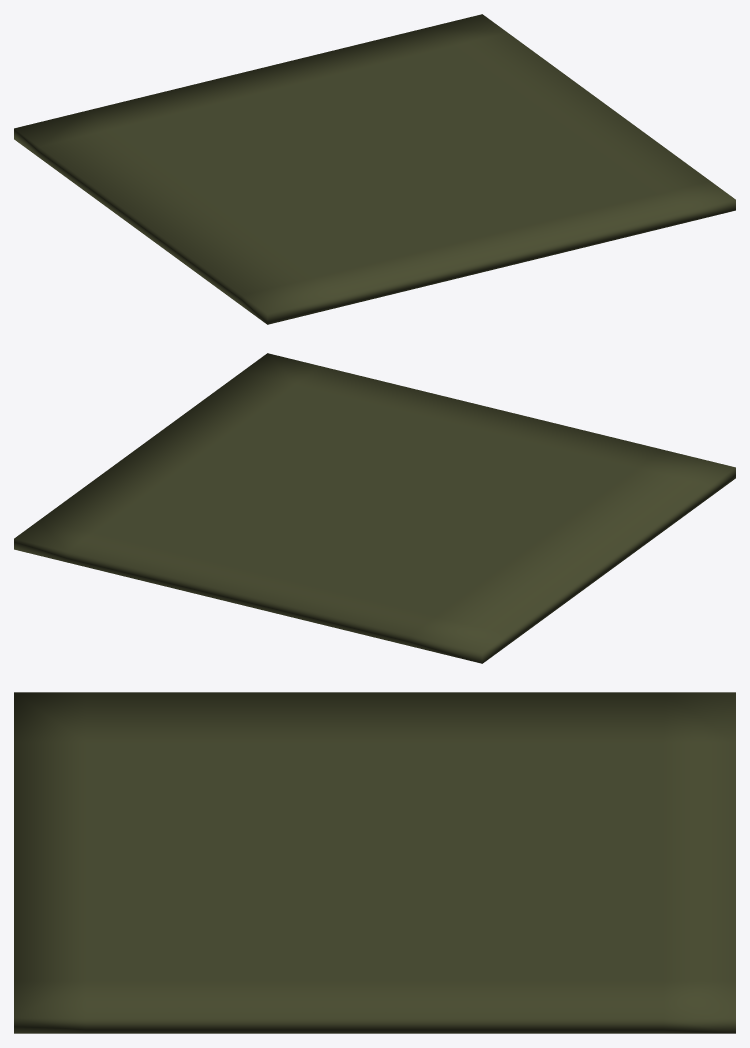
Rendered from Piso.fbx.
3 views of the same model, one above another, from view 1: azimuth 30°, elevation 25°; view 2: azimuth 150°, elevation 25°; view 3: azimuth 270°, elevation 25° (orthographic). The views are drawn at different scales.
Parts seen in each view (by area): view 1: Piso; view 2: Piso; view 3: Piso.
Part boxes in pixels (x1,y1,x2,y2): Piso: (14,14,735,324); Piso: (14,353,735,663); Piso: (14,692,735,1033).
Size of the model in its own units: 65481 by 1448 by 61366.
